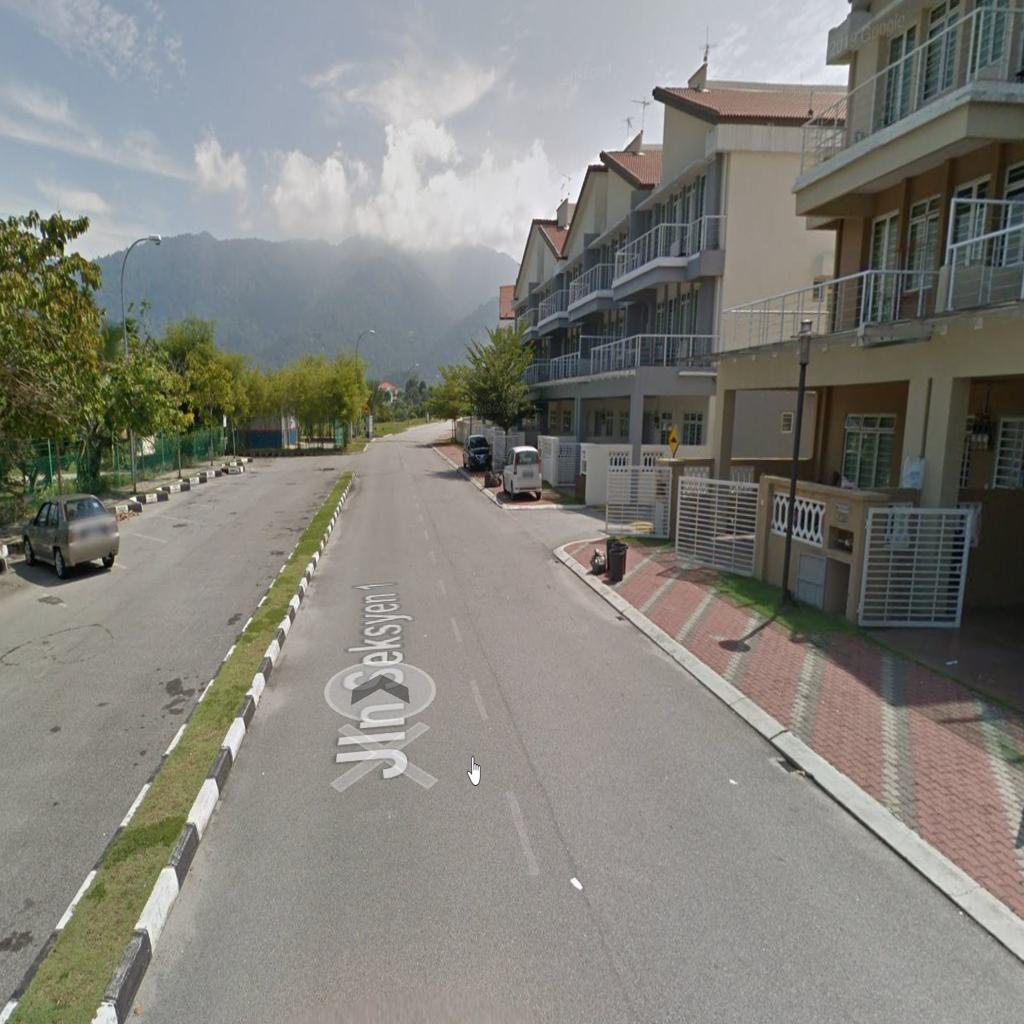Junction: (482, 471, 653, 568)
